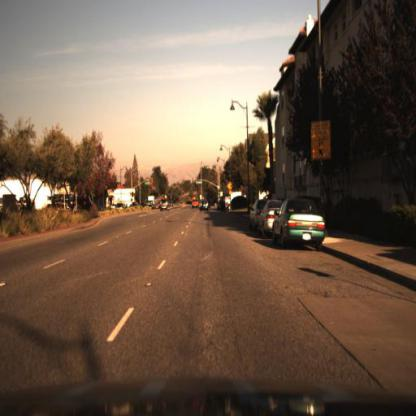car: (273, 196, 323, 250), (256, 199, 282, 238), (249, 201, 260, 232), (158, 189, 170, 214), (198, 195, 210, 214)
